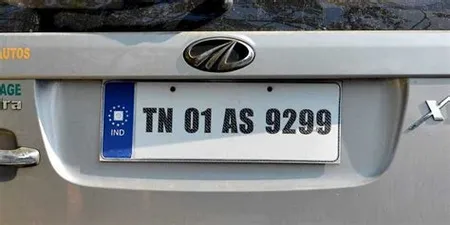number_plate: (99, 75, 354, 174)
